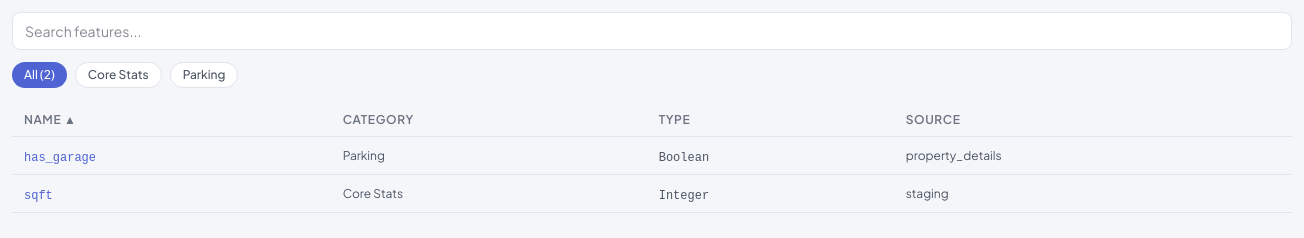
Test: FeatureCatalogTable › shows no results message when search has no matches
Type "zzzzz" into the field with placeholder "Search features..." at (652, 31), box [12,12,1292,50]
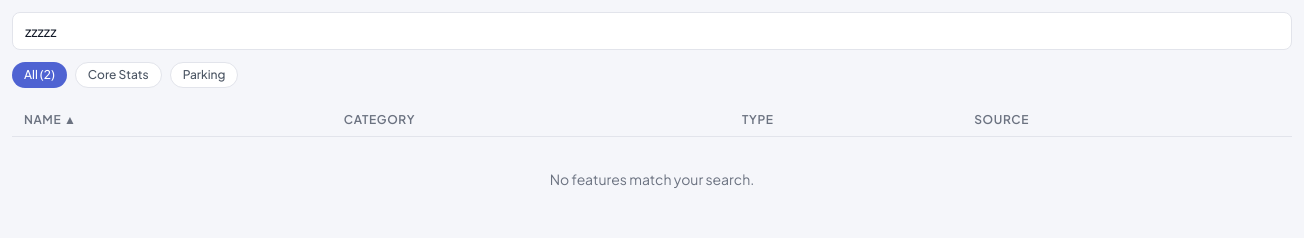
Now the text "No features match your search." is shown, box [12,136,1292,221]
